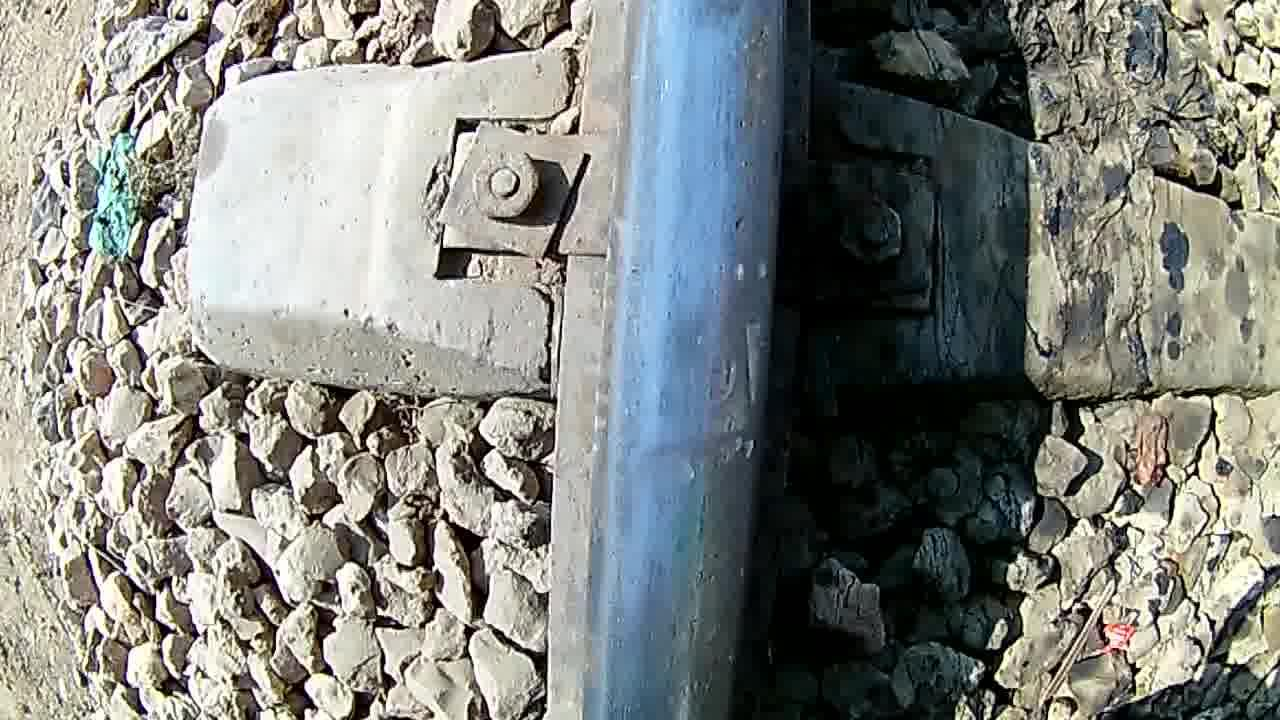crack: (636, 3, 780, 720)
